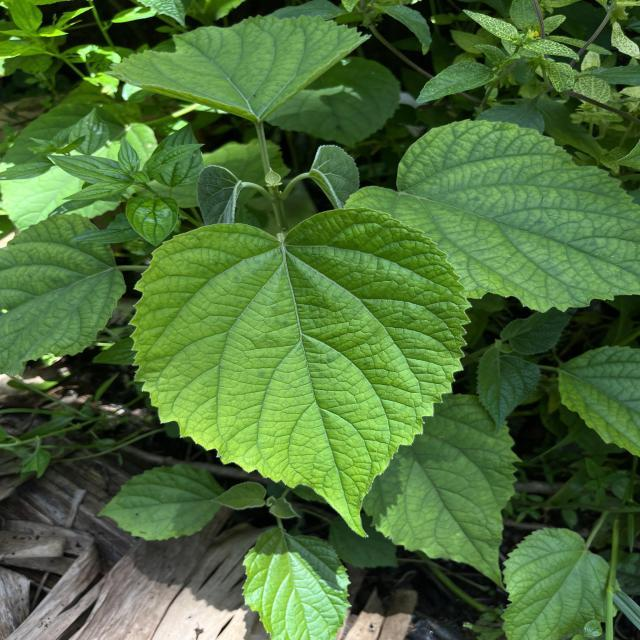Clerodendrum infortunatum: (127, 205, 475, 544), (342, 117, 640, 316), (364, 391, 524, 594), (104, 12, 374, 124), (0, 210, 127, 380)
